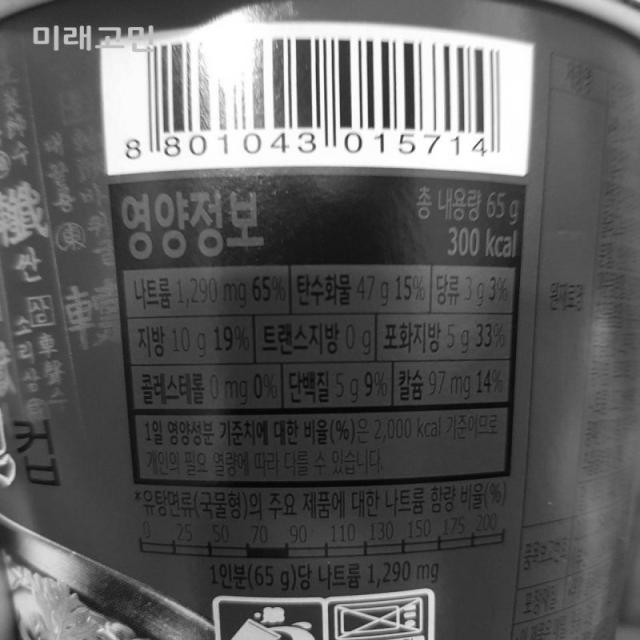Nutrition Label: (85, 168, 532, 489)
